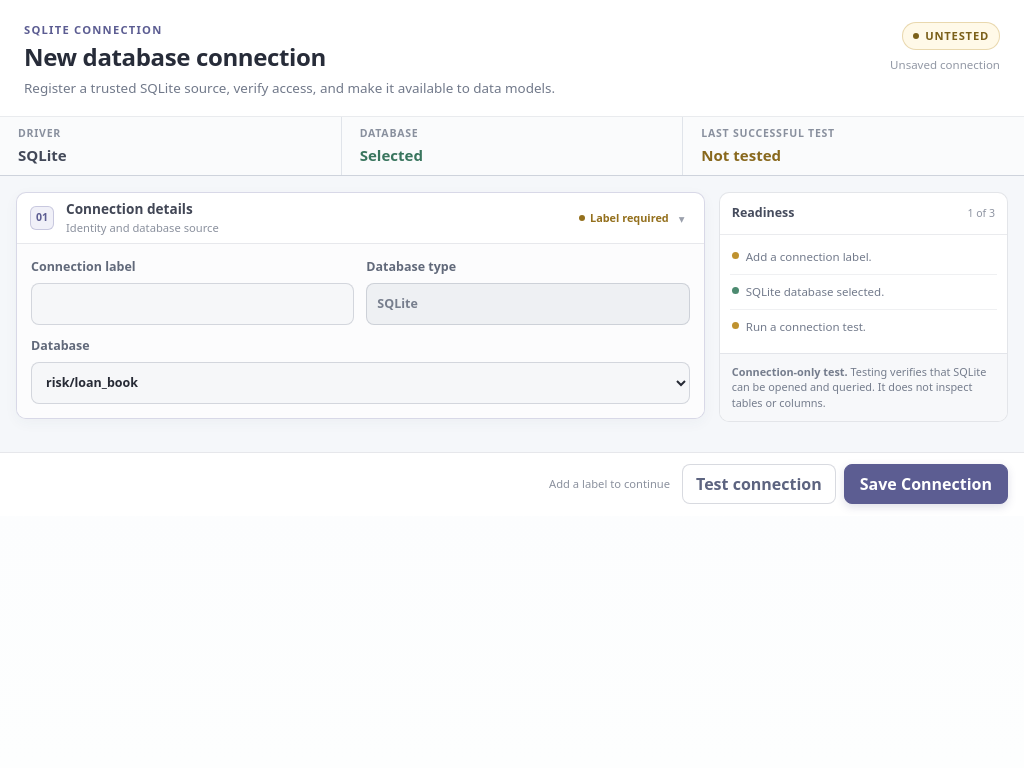
Test case: ConnectionBuilder › shows test feedback and saves a new connection
The image size is (1024, 768).
Type "Loan Book" into the field labelled "Connection label" at [193, 304], box [31, 283, 354, 325]
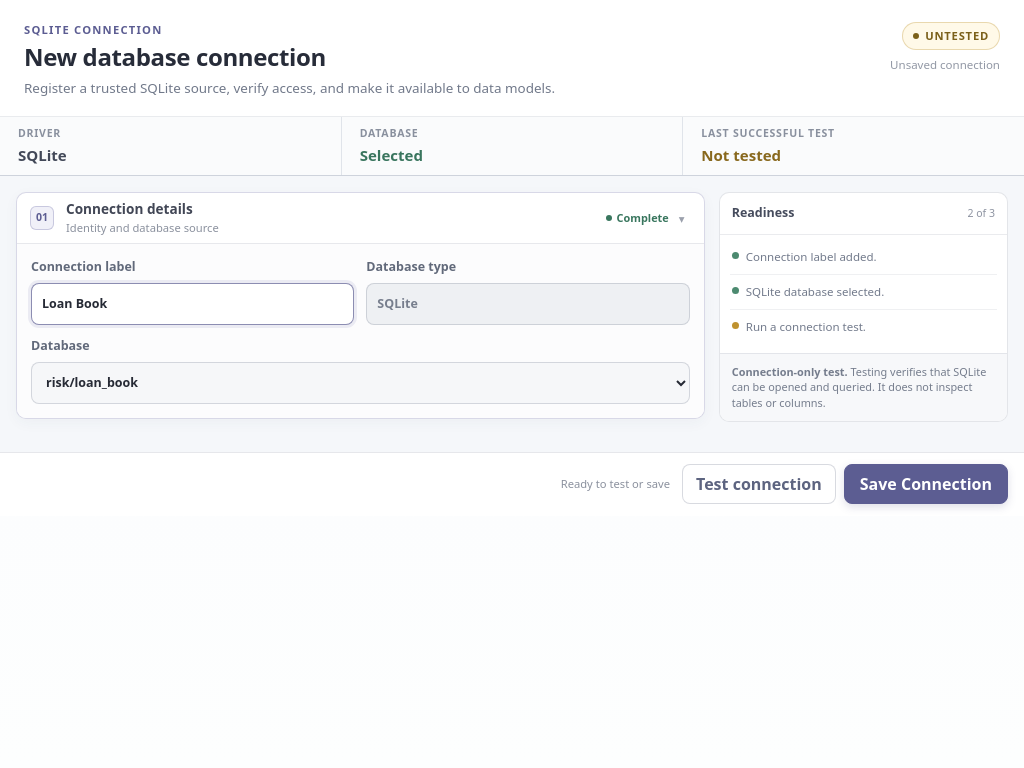
Select "risk/loan_book" in the dropdown labelled "Database" at [360, 383], box [31, 362, 690, 404]
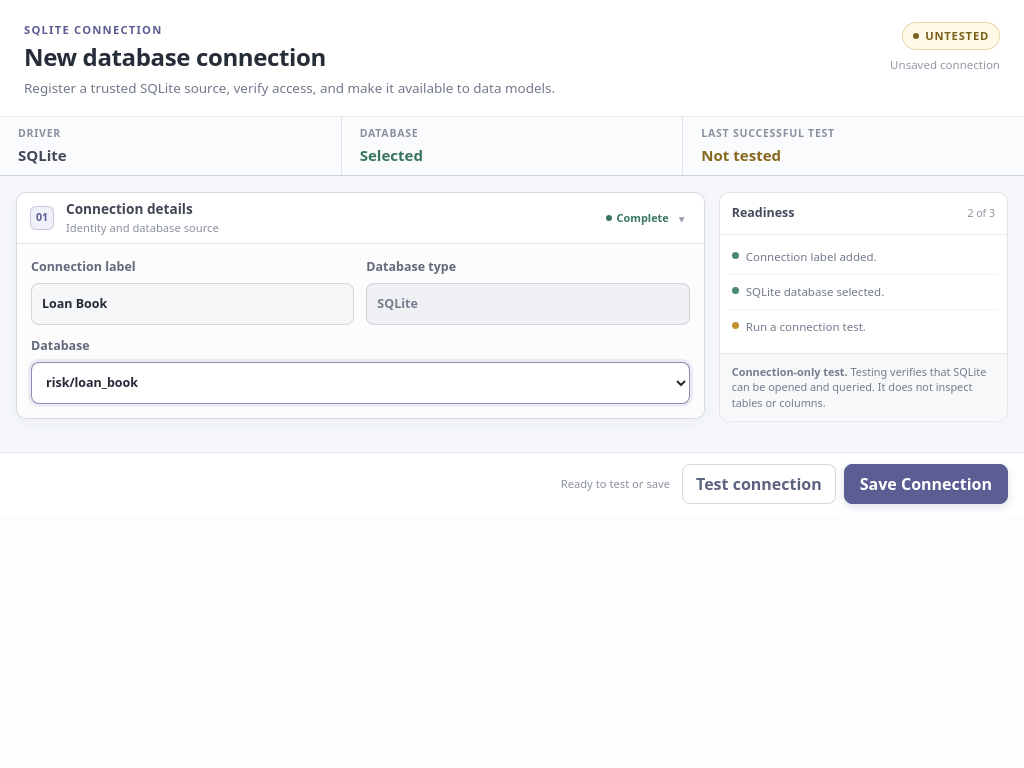
Click the button "Test connection" at [759, 484], box [682, 464, 836, 504]
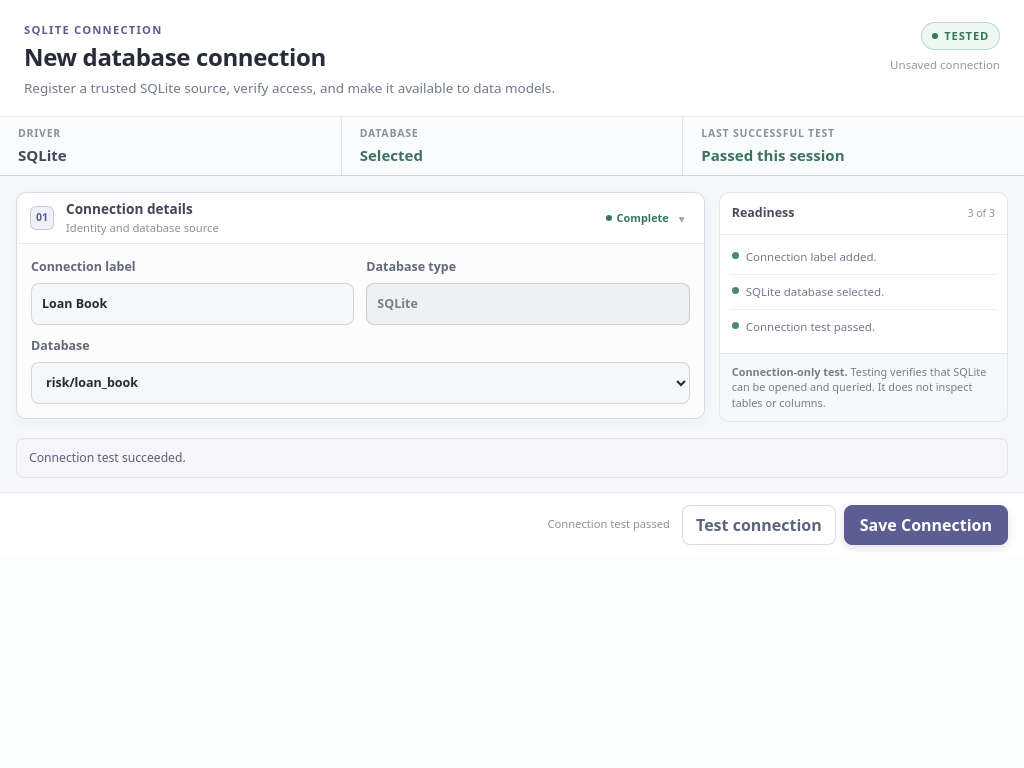
Expected: the text "Connection test succeeded." is shown, [16, 438, 1008, 478]
Expected: the element named "Connection health" shows "Passed this session", [701, 145, 844, 165]
Expected: the element named "Connection readiness" shows "3 of 3", [719, 192, 1008, 422]
Click the button "Save Connection" at [926, 524], box [844, 504, 1008, 544]
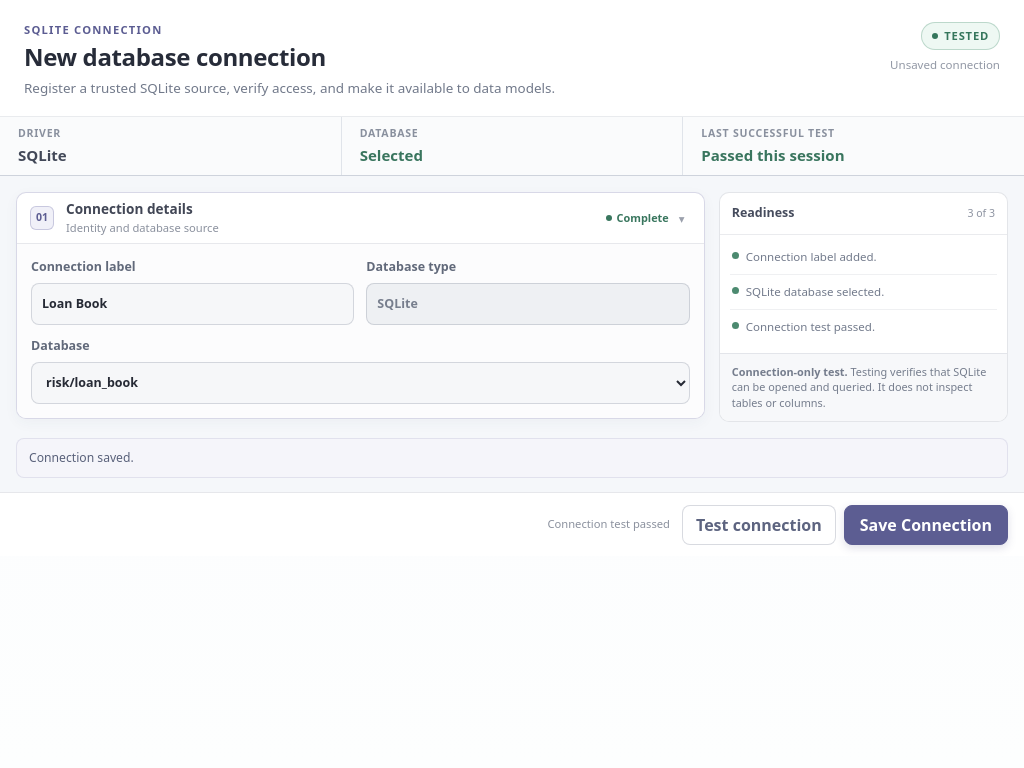
Expected: the text "Connection saved." is shown, [16, 438, 1008, 478]
